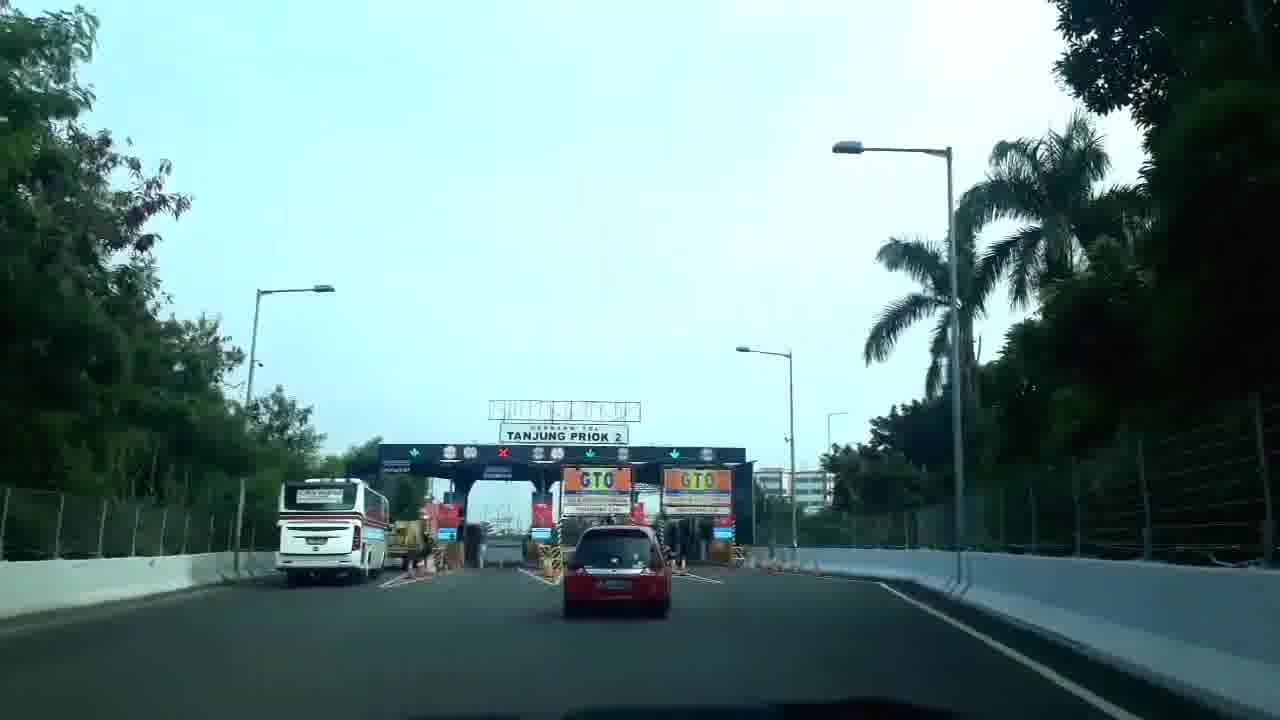plate_positive: (599, 579, 633, 591)
